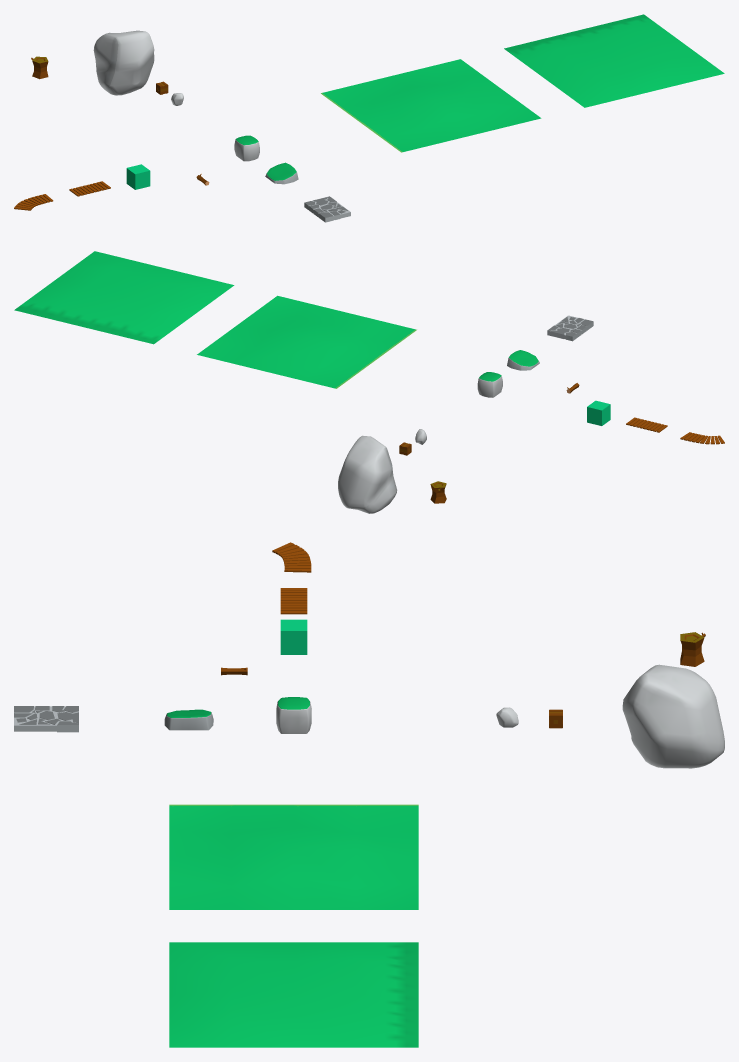
File: LostWorldEnvironmentAssets.glb
3 renders of one model, top to bottom at view 1: azimuth 30°, elevation 25°; view 2: azimuth 150°, elevation 25°; view 3: azimuth 270°, elevation 25°, orthographic. The views are drawn at different scales.
Visible parts, largest first — view 1: Green_Ground2, Green_Ground1, L_Rock_a, Concrete Slab, Rock_platform_a, Cube, Rock_platform_b, Curved_path_planks; view 2: Green_Ground1, Green_Ground2, L_Rock_a, Concrete Slab, Rock_platform_a, Cube, Rock_platform_b; view 3: Green_Ground1, Green_Ground2, L_Rock_a, Concrete Slab, Rock_platform_a, Cube, Rock_platform_b, Curved_path_planks.
Boxes of the visible parts, x1,y1,x2,y2 form: Green_Ground2: (504,14,724,107); Green_Ground1: (321,59,541,152); L_Rock_a: (93,30,154,95); Concrete Slab: (304,196,350,222); Rock_platform_a: (234,135,259,161); Cube: (126,164,150,189); Rock_platform_b: (265,162,298,184); Curved_path_planks: (14,194,53,210); Green_Ground1: (197,295,416,388); Green_Ground2: (14,251,234,344); L_Rock_a: (338,435,397,513); Concrete Slab: (547,315,593,341); Rock_platform_a: (477,372,502,397); Cube: (587,400,610,425); Rock_platform_b: (507,350,539,370); Green_Ground1: (169,804,418,909); Green_Ground2: (169,942,418,1047); L_Rock_a: (622,664,724,768); Concrete Slab: (14,706,78,732); Rock_platform_a: (276,697,311,733); Cube: (280,619,307,654); Rock_platform_b: (164,709,213,730); Curved_path_planks: (272,542,311,572).
Bounding box in the file's own units: 89.31 × 7.79 × 53.21.
Materials: 3 (1 with a texture image).
